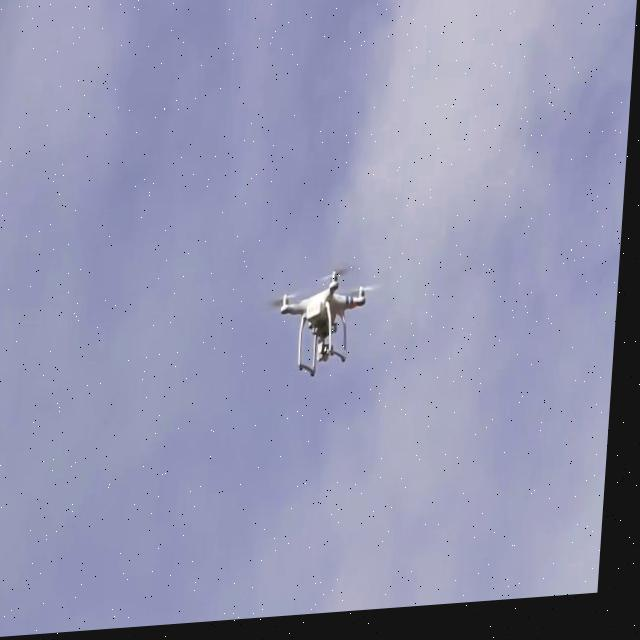drone: (279, 263, 380, 384)
